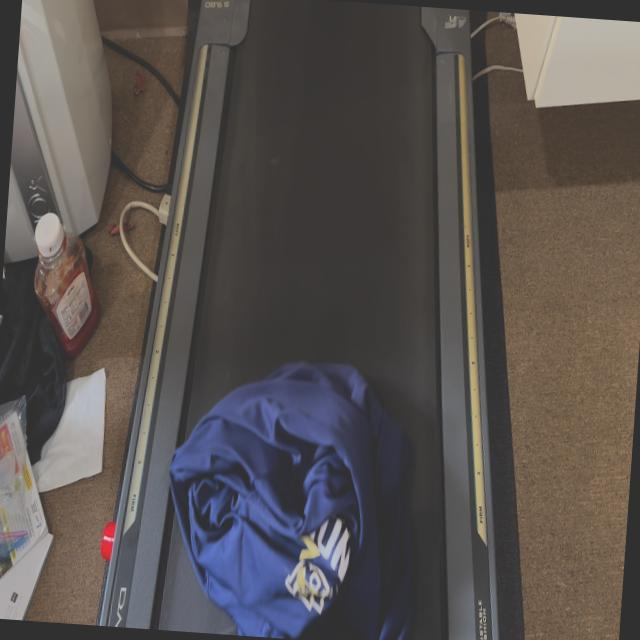Trash: (156, 347, 437, 640)
